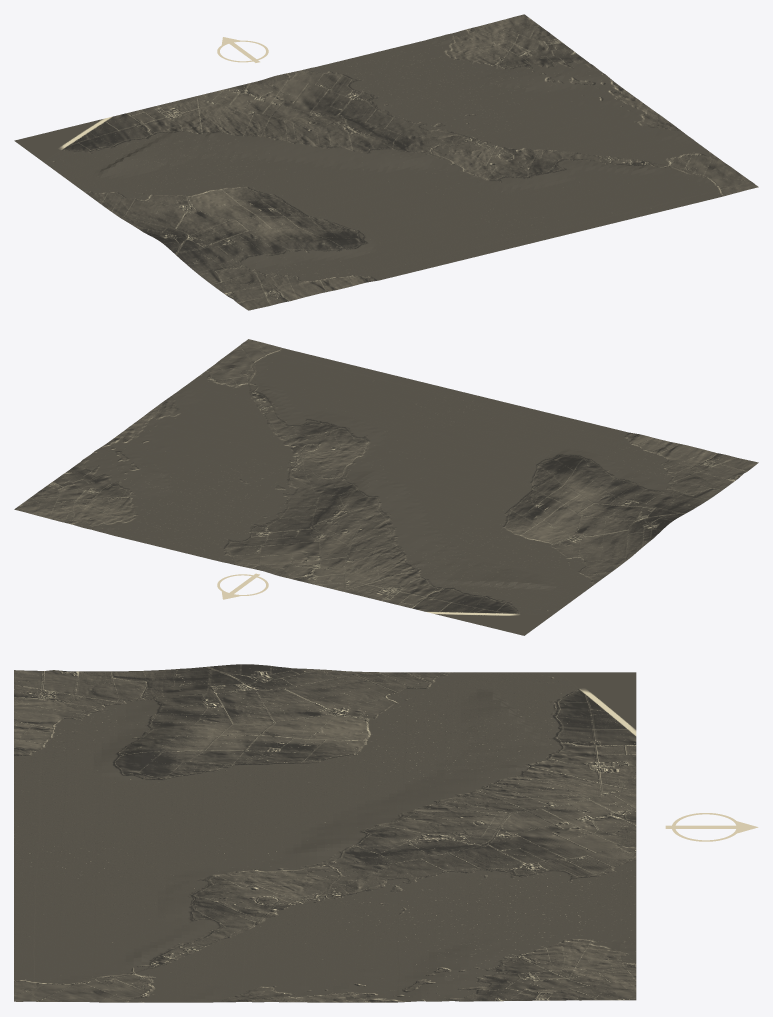
File: terrain.glb
3 views of the same model, one above another, from view 1: azimuth 30°, elevation 25°; view 2: azimuth 150°, elevation 25°; view 3: azimuth 270°, elevation 25° (orthographic). The views are drawn at different scales.
Parts seen in each view (by area): view 1: Oddscape_Terrain_v221_GLB; view 2: Oddscape_Terrain_v221_GLB; view 3: Oddscape_Terrain_v221_GLB.
Boxes of the visible parts, x1,y1,x2,y2 form: Oddscape_Terrain_v221_GLB: (14,14,758,310); Oddscape_Terrain_v221_GLB: (14,339,758,635); Oddscape_Terrain_v221_GLB: (14,664,758,1002).
Size of the model in its own units: 1.6 by 0.023 by 1.52.
2 materials, 1 textured.
